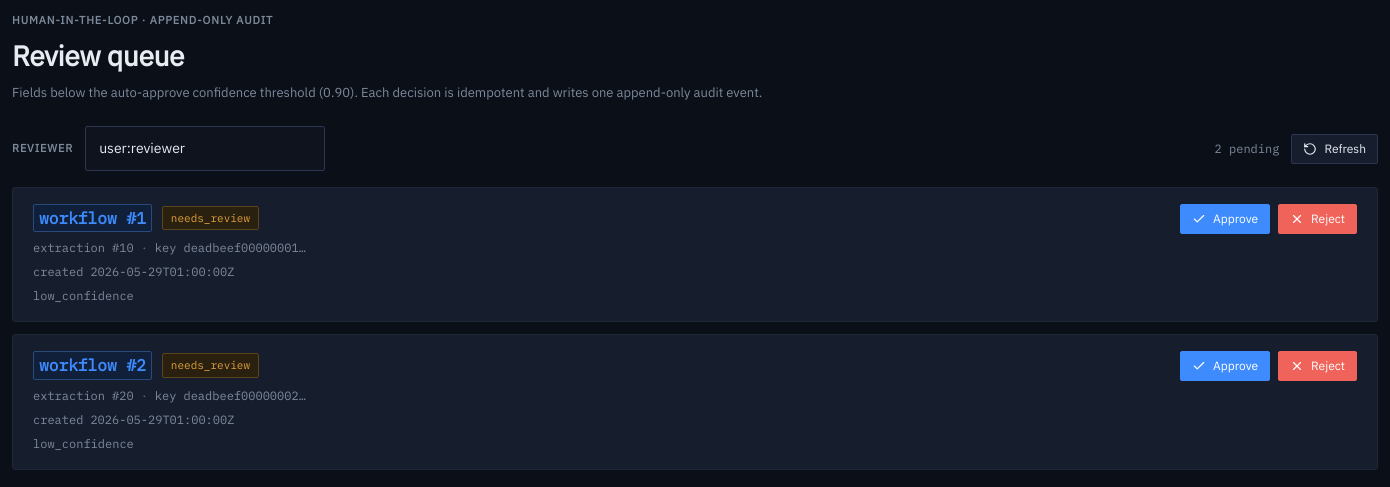
Test case: Review view › approves an item and removes it from the queue
The image size is (1390, 487).
Expected: the element with test id "review-item-1" is shown, [12,187,1378,322]
Click the 1st button "Approve".
click(1225, 219)  # box [1180,204,1270,234]
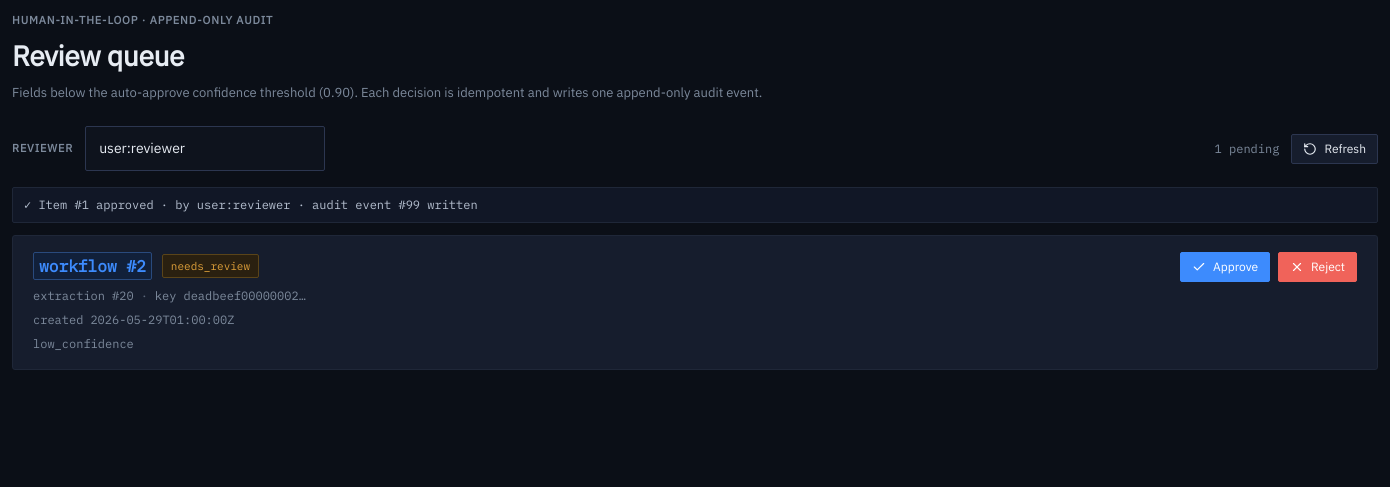
Now the element with test id "review-item-1" is gone
Now the message shows "Item #1 approved", box [24,197,478,212]
Now the message shows "audit event #99", box [24,197,478,212]
